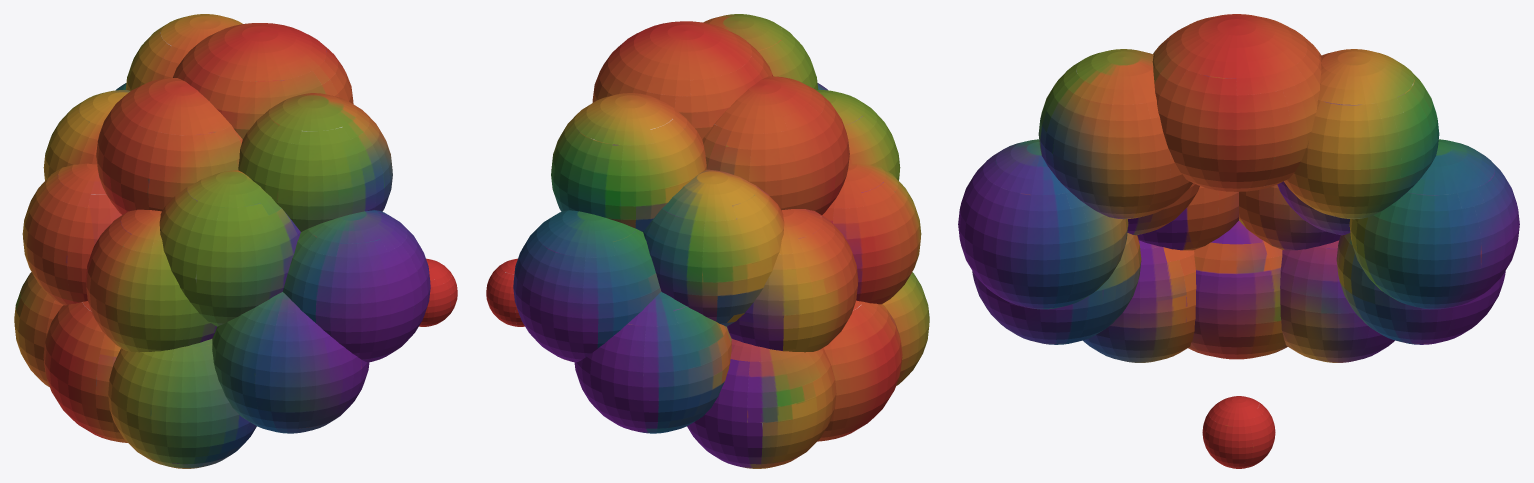
The model's file is upPayaso.obj.
3 views of the same model, side by side, from view 1: azimuth 30°, elevation 25°; view 2: azimuth 150°, elevation 25°; view 3: azimuth 270°, elevation 25° (orthographic). The views are drawn at different scales.
Parts seen in each view (by area): view 1: peluca, Nariz; view 2: peluca, Nariz; view 3: peluca, Nariz.
Boxes of the visible parts, box(x1,y1,x2,y2) form: peluca: box(14, 14, 430, 468); Nariz: box(419, 258, 457, 326); peluca: box(513, 14, 929, 468); Nariz: box(486, 258, 524, 326); peluca: box(958, 14, 1519, 362); Nariz: box(1202, 396, 1275, 468).
Bounding box in the file's own units: 2.58 × 2.3 × 2.97.
1 material, 1 textured.
